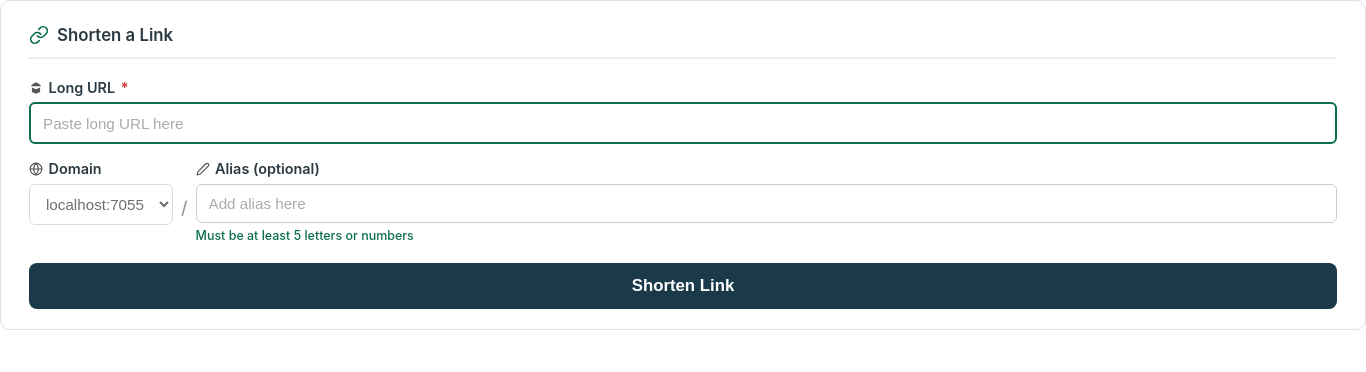
Test case: UrlShortenerForm › shows error when alias is shorter than 5 characters
In the field labelled "Long URL *": (683, 123) [29,102,1337,144], type "https://example.com"
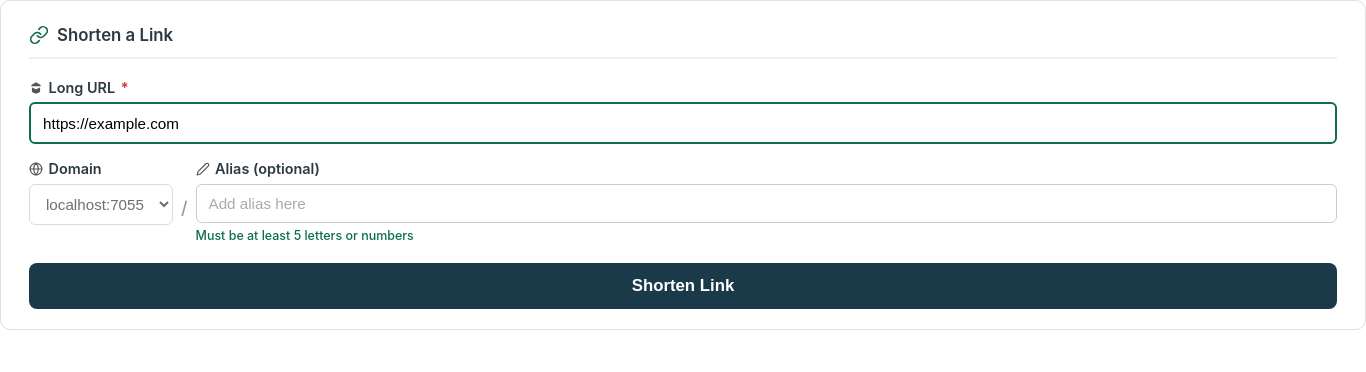
In the field labelled "Alias (optional)": (766, 204) [196,184,1337,223], type "ab"
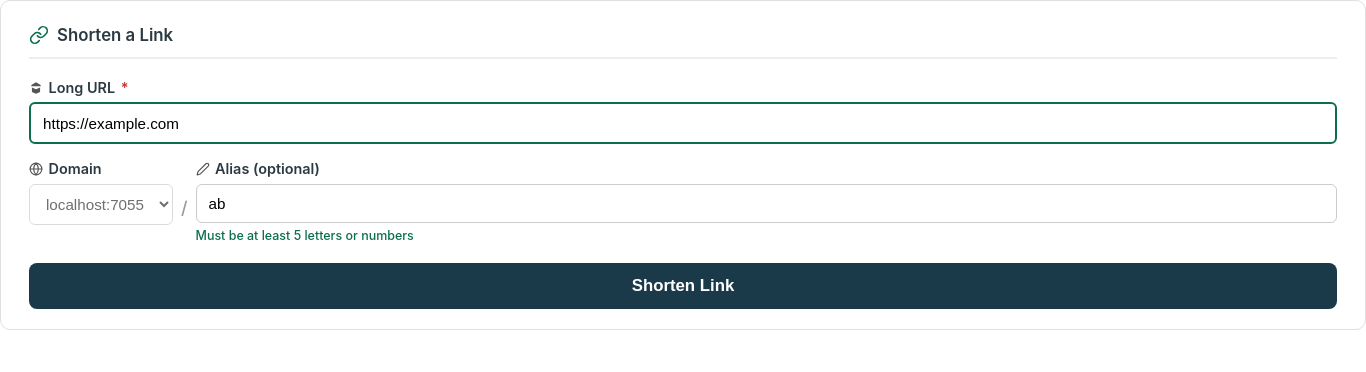
Click the button "Shorten Link": (683, 286) [29,263,1337,309]
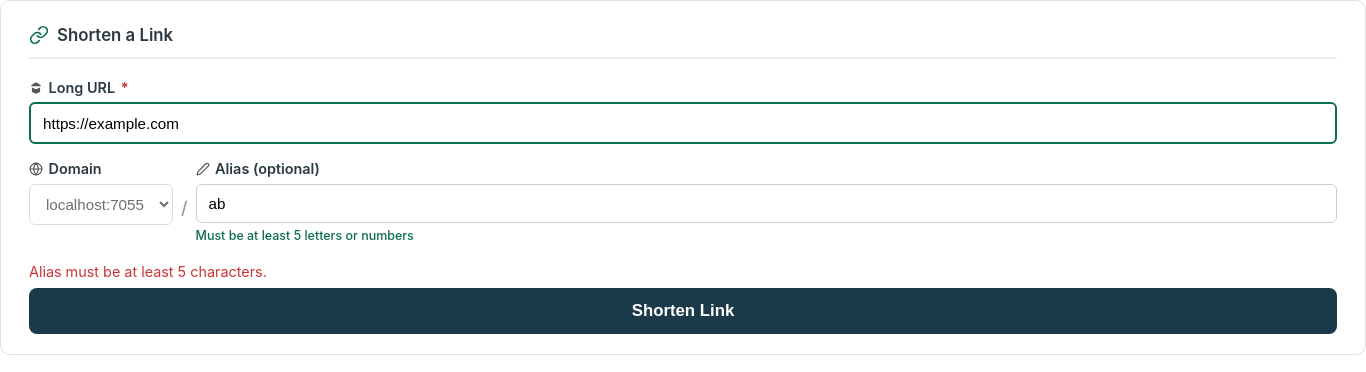
Now the text "Alias must be at least 5 characters." is shown, box [29,263,267,280]
